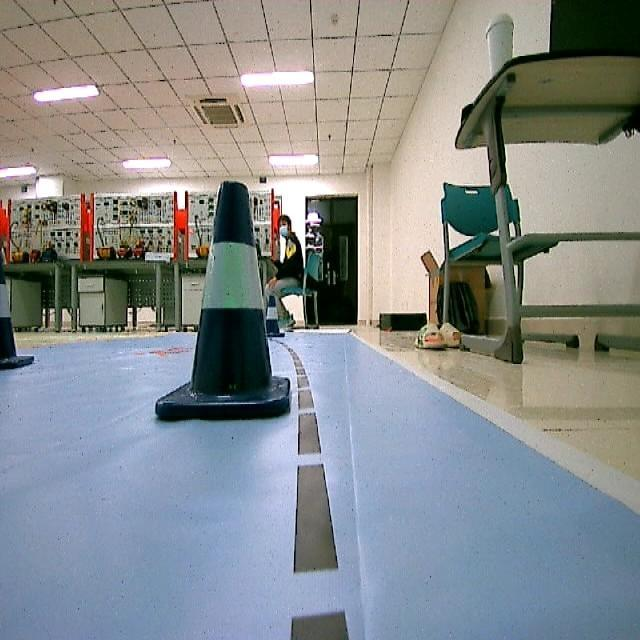obstacle: (146, 172, 288, 426)
